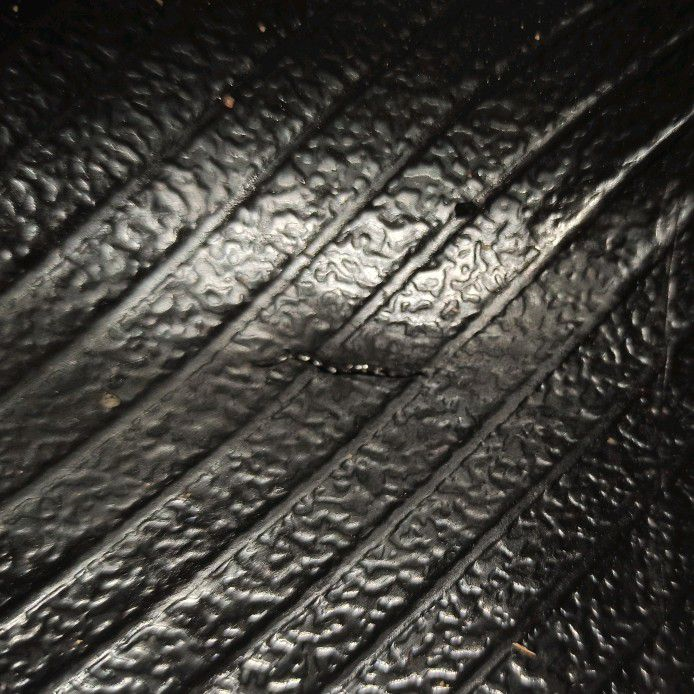cut: (240, 343, 418, 391)
